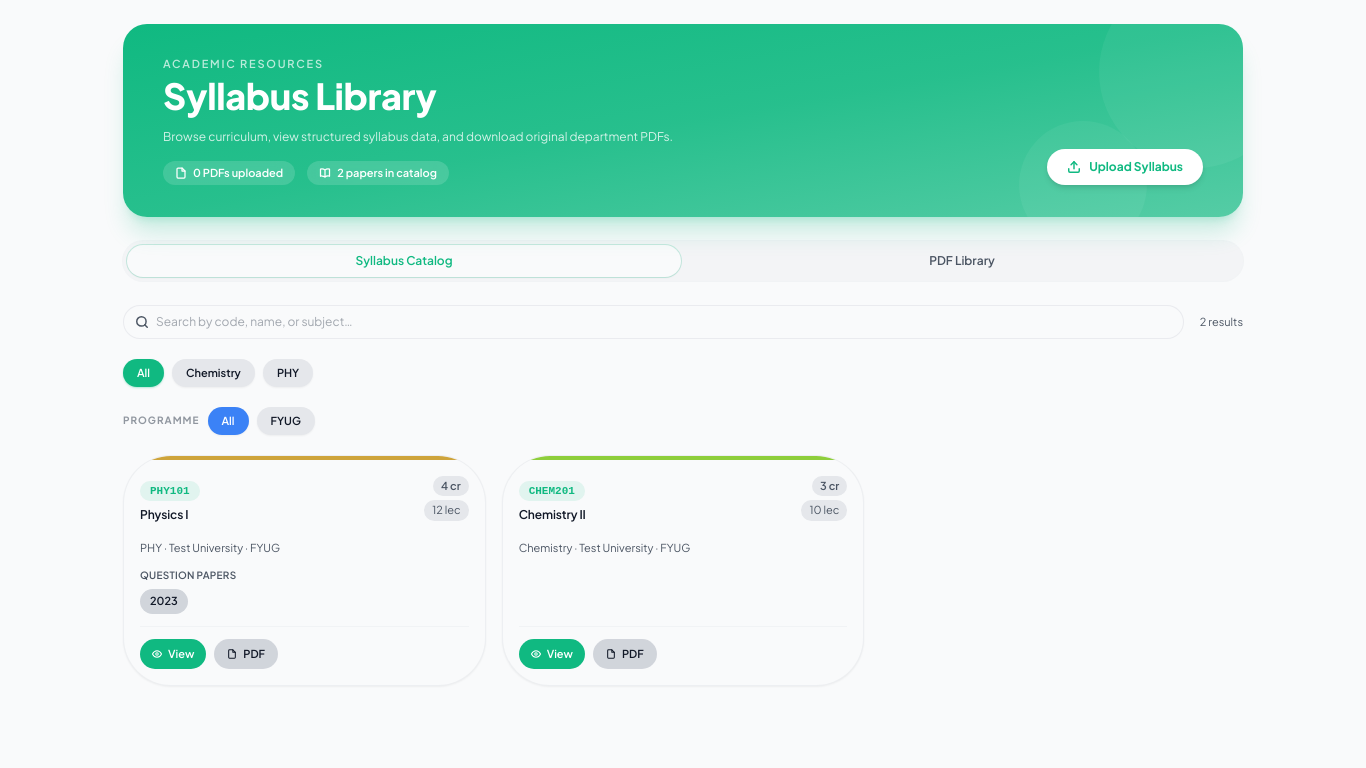
it: SyllabusCatalogClient › filters papers by search query (paper code)
Expected: the heading "Chemistry II" is shown, [519,507,586,524]
Type "PHY" into the search field with placeholder "Search by code, name, or subject…" at {"x": 653, "y": 322}, box [123,305,1184,339]
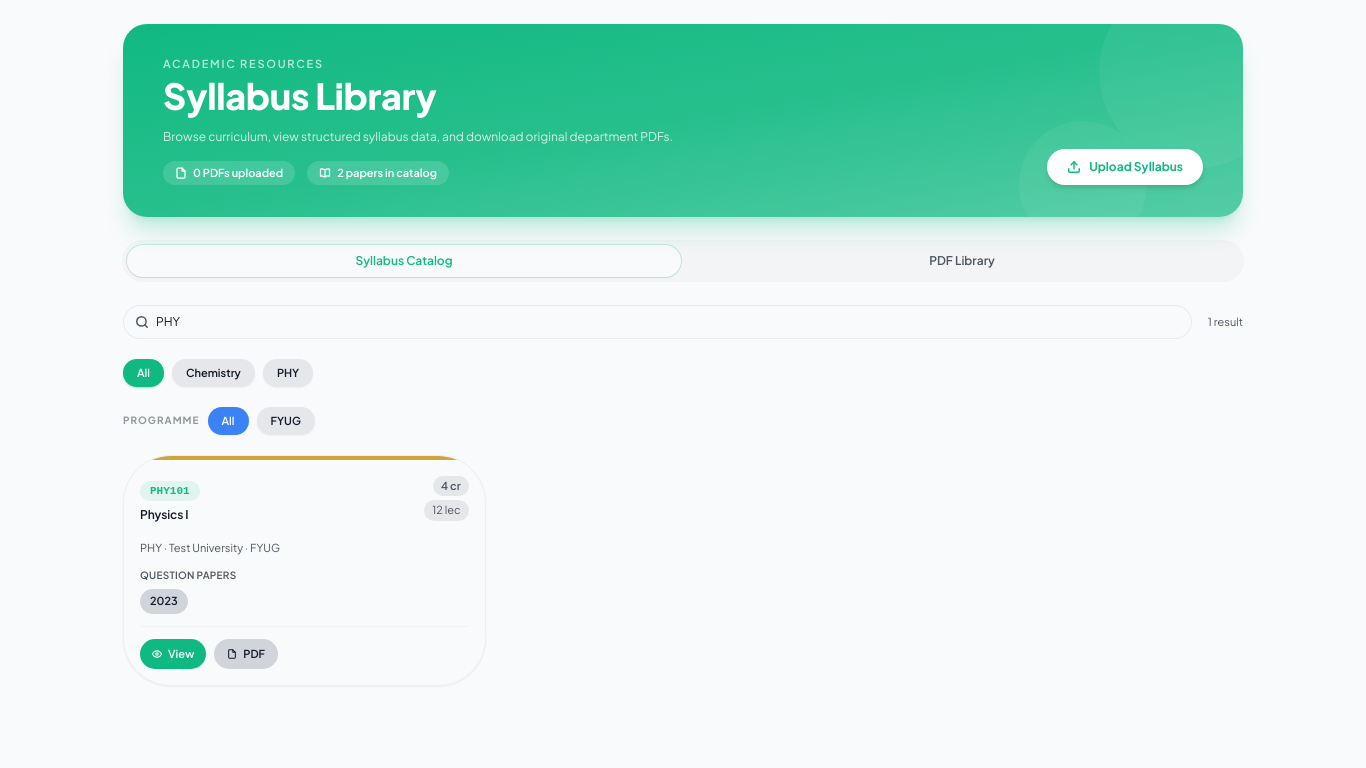
Expected: the heading "Physics I" is shown, [140,507,188,522]
Expected: the link "Chemistry II" is gone
Expected: the text "1 result" is shown, [1208,314,1243,330]
